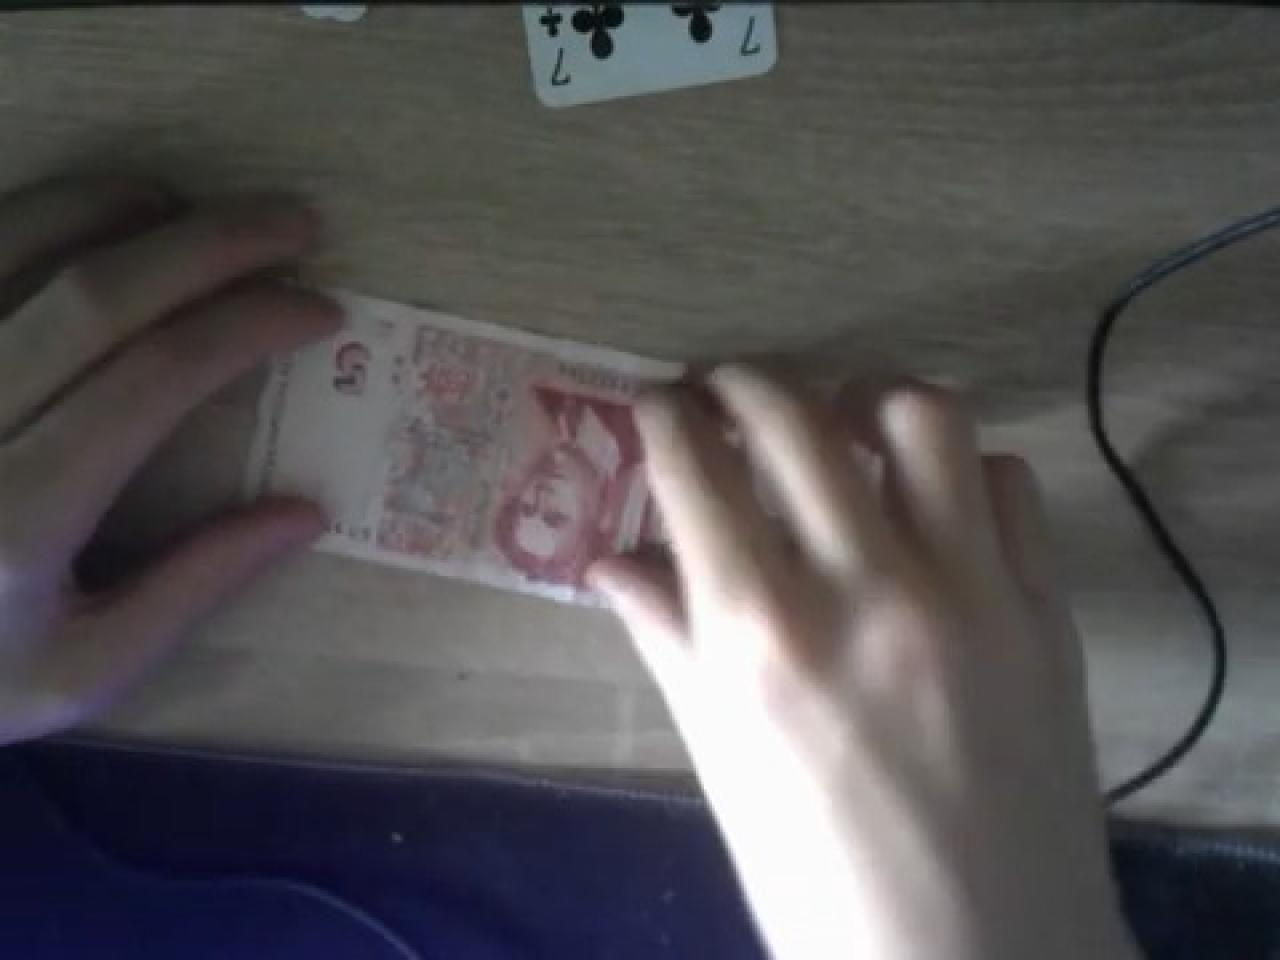5leva: (222, 288, 648, 603)
